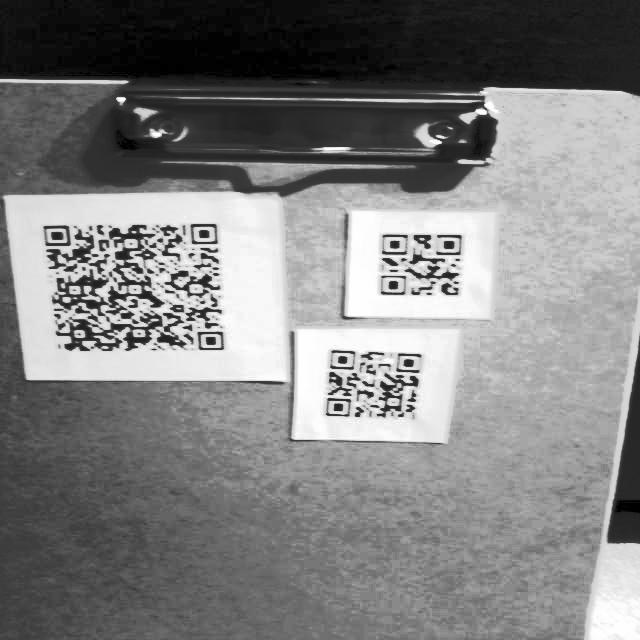qr_code: (25, 208, 237, 367), (312, 337, 441, 432), (366, 222, 471, 309)
